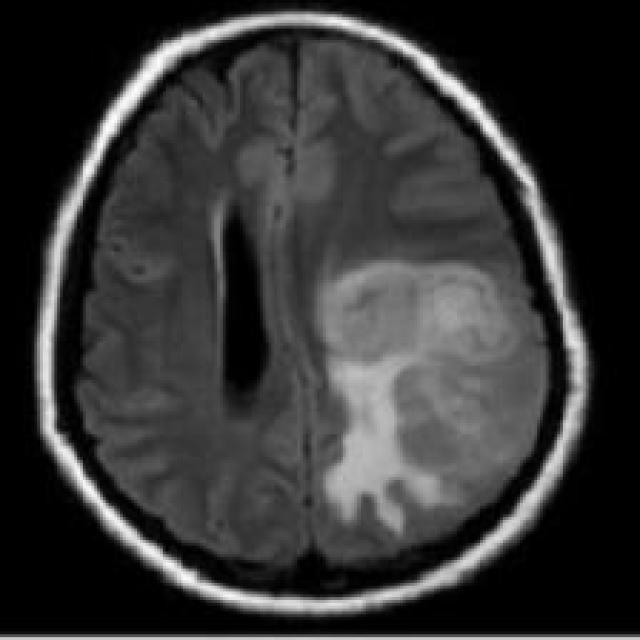Tumor: (311, 351, 443, 523), (314, 254, 520, 360)
